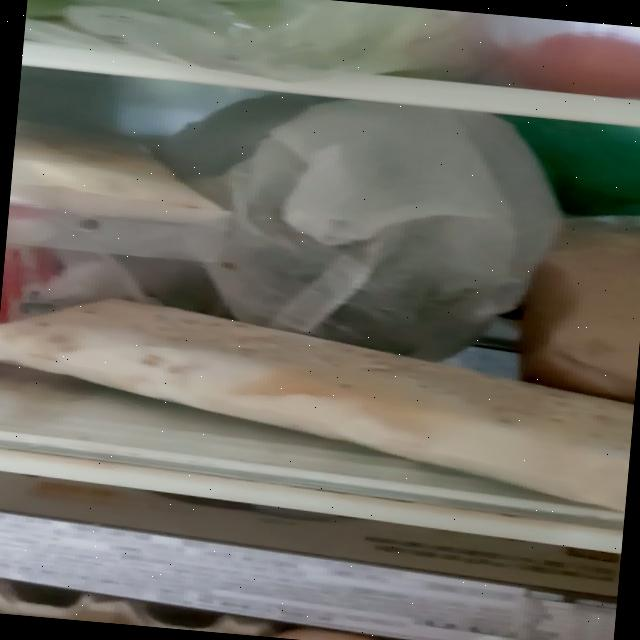tempeh: (0, 289, 639, 510)
unknown_bag: (200, 96, 564, 370)
